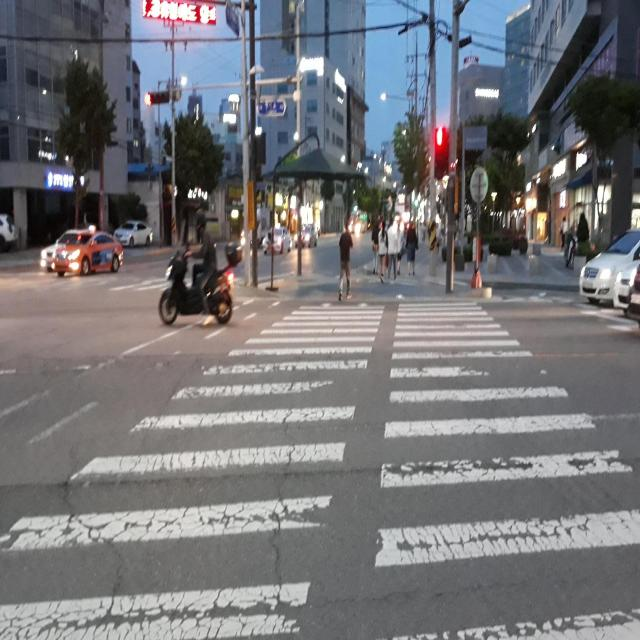빨간불: (434, 125, 448, 185)
횡단보도: (0, 298, 640, 640)
